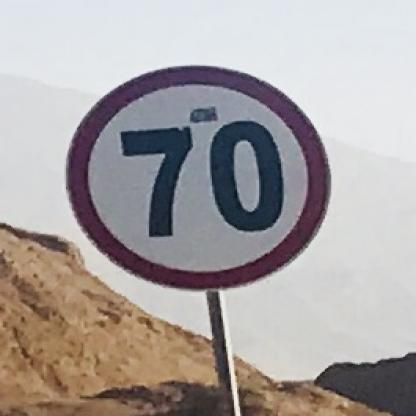Speed Limit -70 kmph-: (65, 64, 333, 293)
